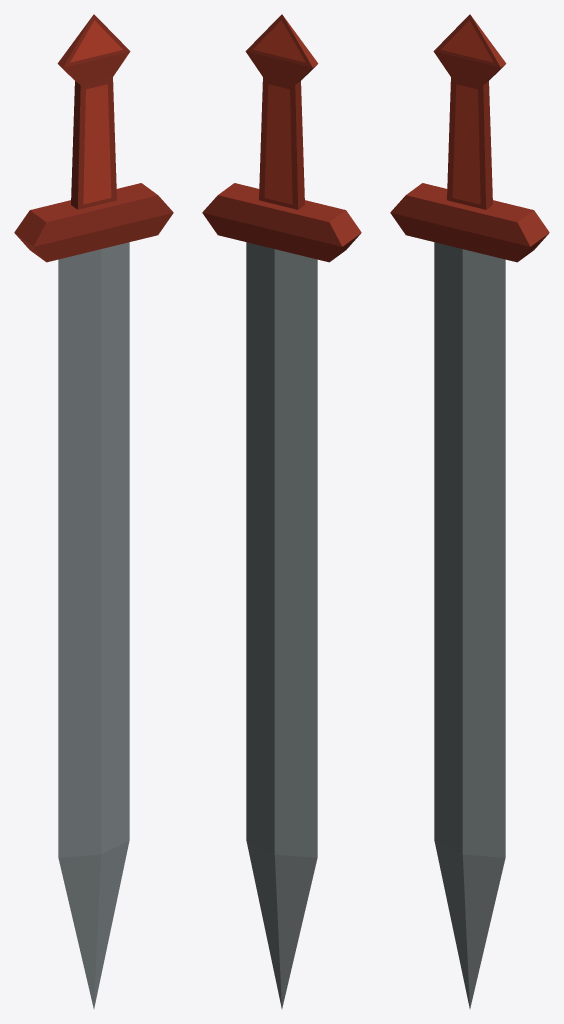
The model's file is Sword_5_Red.fbx.
3 renders of one model, left to right at view 1: azimuth 30°, elevation 25°; view 2: azimuth 150°, elevation 25°; view 3: azimuth 330°, elevation 25°, orthographic.
Visible parts, largest first — view 1: Sword_5_Red_Part_1, Sword_5_Red_Part_2, Sword_5_Red_Part_3, Sword_5_Red_Part_4; view 2: Sword_5_Red_Part_1, Sword_5_Red_Part_2, Sword_5_Red_Part_3, Sword_5_Red_Part_4; view 3: Sword_5_Red_Part_1, Sword_5_Red_Part_2, Sword_5_Red_Part_3, Sword_5_Red_Part_4.
Part boxes in pixels (left/top/right/bottom): Sword_5_Red_Part_1: left=58, top=242, right=129, bottom=1008; Sword_5_Red_Part_2: left=14, top=183, right=173, bottom=262; Sword_5_Red_Part_3: left=57, top=14, right=130, bottom=209; Sword_5_Red_Part_4: left=70, top=20, right=122, bottom=204; Sword_5_Red_Part_1: left=246, top=242, right=317, bottom=1008; Sword_5_Red_Part_2: left=202, top=183, right=361, bottom=262; Sword_5_Red_Part_3: left=245, top=14, right=318, bottom=209; Sword_5_Red_Part_4: left=253, top=20, right=305, bottom=204; Sword_5_Red_Part_1: left=434, top=242, right=505, bottom=1008; Sword_5_Red_Part_2: left=390, top=183, right=549, bottom=262; Sword_5_Red_Part_3: left=433, top=14, right=506, bottom=209; Sword_5_Red_Part_4: left=441, top=20, right=493, bottom=204.
Bounding box in the file's own units: 19.12 × 130 × 4.58.
